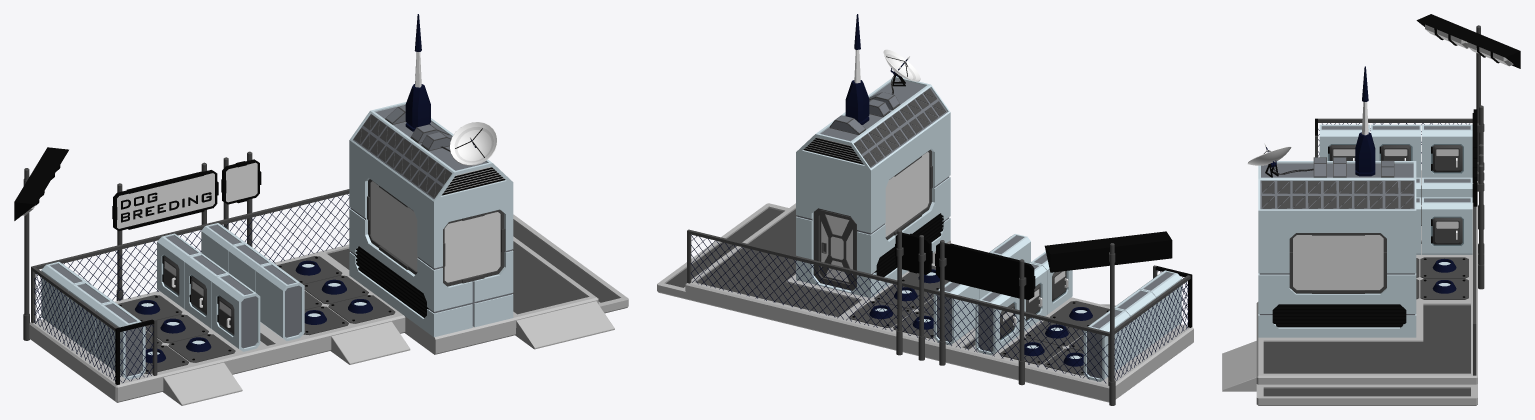
Rendered from Breeding level 1.fbx.
3 renders of one model, left to right at view 1: azimuth 30°, elevation 25°; view 2: azimuth 150°, elevation 25°; view 3: azimuth 270°, elevation 25°, orthographic. The views are drawn at different scales.
Parts seen in each view (by area): view 1: Cube.002; view 2: Cube.002; view 3: Cube.002.
Part boxes in pixels (x1,y1,x2,y2): Cube.002: (14,14,628,405); Cube.002: (657,14,1193,405); Cube.002: (1222,14,1520,405).
Bounding box in the file's own units: 684 × 361 × 362.
